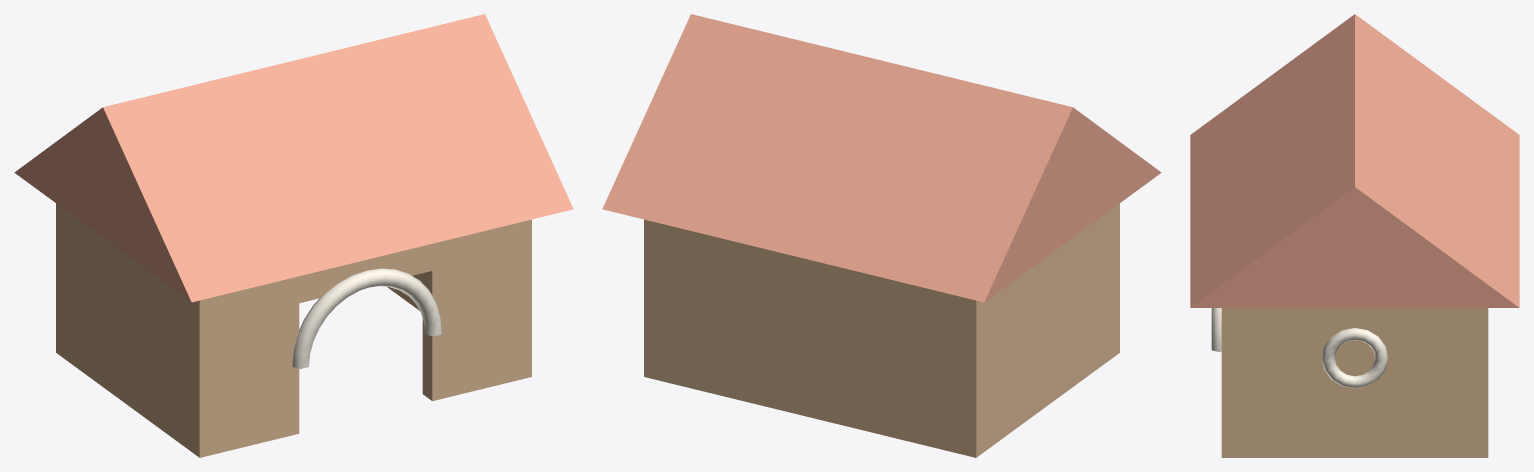
The model's file is house.glb.
The picture shows the model from 3 angles, left to right: view 1: azimuth 30°, elevation 25°; view 2: azimuth 150°, elevation 25°; view 3: azimuth 270°, elevation 25°; orthographic projection. The views are drawn at different scales.
Visible parts, largest first — view 1: house_roof, house_walls, house_trim; view 2: house_roof, house_walls; view 3: house_roof, house_walls, house_trim.
Boxes of the visible parts, bbox=[...] form: house_roof: bbox=[14, 14, 573, 302]; house_walls: bbox=[56, 203, 531, 457]; house_trim: bbox=[292, 268, 441, 368]; house_roof: bbox=[602, 14, 1161, 302]; house_walls: bbox=[644, 203, 1119, 457]; house_roof: bbox=[1190, 14, 1519, 307]; house_walls: bbox=[1221, 308, 1488, 457]; house_trim: bbox=[1211, 308, 1388, 388].
Bounding box in the file's own units: 0.92 × 0.7 × 0.74.
